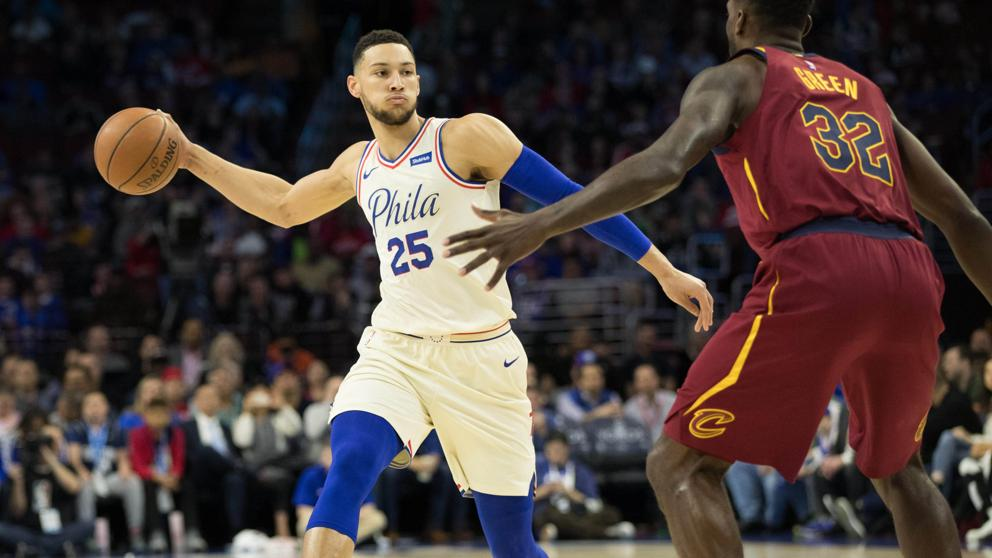basketball: (94, 106, 182, 202)
basketball player: (452, 5, 992, 554), (178, 18, 713, 556)
